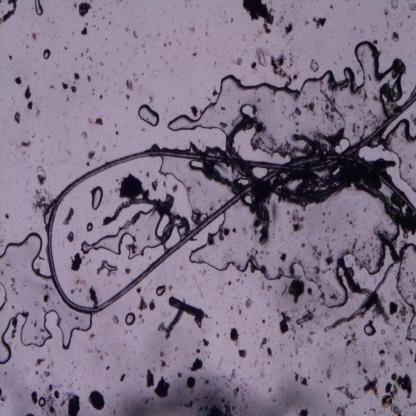Air bubble: (160, 41, 404, 132), (0, 230, 92, 365), (382, 119, 416, 191), (396, 240, 416, 344), (82, 221, 137, 256), (292, 132, 329, 151), (138, 104, 160, 127), (97, 258, 119, 279), (89, 186, 103, 211), (362, 323, 378, 336), (34, 1, 44, 19), (155, 284, 167, 298), (125, 312, 135, 326), (37, 396, 47, 410), (42, 49, 52, 61), (85, 222, 94, 233), (380, 328, 386, 336)
Background material: (169, 295, 208, 328), (335, 374, 379, 400), (242, 0, 274, 35), (317, 90, 346, 126), (374, 228, 400, 263), (118, 175, 150, 201), (32, 191, 52, 218), (295, 304, 317, 327), (86, 388, 106, 412), (0, 1, 20, 25), (358, 105, 380, 126), (200, 394, 221, 416), (288, 280, 306, 305), (154, 374, 170, 402), (381, 382, 397, 408), (123, 210, 143, 230), (398, 374, 413, 400), (65, 392, 81, 415), (186, 358, 205, 374), (307, 242, 322, 262), (398, 302, 410, 327), (77, 2, 92, 21), (279, 311, 291, 334), (62, 206, 74, 227), (71, 252, 82, 274), (370, 359, 386, 374), (247, 245, 263, 260), (194, 208, 207, 226), (144, 367, 154, 390), (36, 166, 47, 186), (228, 328, 240, 346), (10, 277, 20, 297), (389, 297, 399, 317), (343, 331, 357, 345), (291, 209, 305, 223), (309, 58, 321, 74), (89, 289, 99, 308), (216, 353, 226, 372), (138, 294, 148, 312), (349, 234, 358, 254), (350, 121, 362, 136), (30, 389, 40, 406), (312, 17, 326, 29), (310, 265, 322, 279), (222, 400, 232, 416), (342, 100, 356, 111), (279, 281, 288, 298), (393, 350, 403, 365), (47, 398, 55, 416), (291, 335, 303, 347), (232, 385, 241, 401), (357, 360, 368, 373), (363, 253, 373, 267), (125, 78, 135, 92), (24, 84, 32, 101), (13, 111, 22, 126), (401, 401, 416, 410), (11, 318, 17, 340), (86, 149, 97, 161), (186, 376, 196, 389), (158, 360, 167, 374), (391, 30, 400, 44), (368, 407, 382, 416), (285, 22, 294, 36), (385, 336, 392, 354), (183, 400, 194, 411), (390, 403, 400, 415), (324, 254, 334, 266), (361, 91, 369, 106), (393, 324, 401, 339), (335, 406, 347, 416), (307, 101, 317, 113), (390, 0, 400, 12), (0, 388, 7, 405), (73, 278, 86, 287), (290, 306, 297, 322), (144, 392, 152, 406), (325, 367, 333, 381), (52, 380, 63, 390), (66, 233, 76, 244), (21, 140, 33, 149), (14, 74, 23, 86), (60, 80, 69, 92), (151, 177, 158, 192), (191, 105, 198, 120), (32, 105, 40, 118), (35, 356, 45, 366), (218, 120, 228, 130), (238, 347, 247, 358), (124, 266, 133, 277), (157, 323, 166, 334), (9, 137, 16, 151), (297, 407, 309, 415), (250, 61, 258, 73), (245, 297, 252, 310), (94, 117, 104, 126), (222, 10, 228, 25), (276, 384, 285, 394), (112, 315, 121, 325), (266, 347, 274, 358), (288, 323, 296, 334), (298, 240, 306, 251), (149, 298, 156, 310), (280, 251, 287, 263), (383, 7, 390, 19), (208, 235, 215, 247), (27, 100, 34, 112), (407, 2, 416, 11), (201, 338, 210, 347), (80, 130, 88, 140), (42, 370, 52, 378), (382, 366, 390, 376), (232, 58, 242, 66), (80, 27, 88, 37), (265, 284, 273, 294), (52, 389, 60, 399), (260, 337, 267, 348), (223, 226, 230, 237), (253, 358, 260, 369), (292, 223, 303, 230), (276, 16, 284, 25), (295, 360, 304, 368), (36, 326, 45, 334), (307, 286, 313, 298), (378, 349, 386, 358), (390, 372, 398, 381), (305, 336, 314, 344), (294, 372, 300, 384), (301, 378, 309, 387), (232, 404, 238, 416), (294, 108, 302, 117), (143, 169, 150, 179), (147, 95, 154, 105), (260, 277, 265, 291), (408, 347, 414, 358), (4, 212, 10, 223), (187, 183, 193, 194), (60, 396, 66, 407), (230, 369, 236, 380), (228, 304, 236, 312), (70, 86, 78, 94), (89, 332, 97, 340), (330, 292, 338, 300), (254, 95, 262, 103), (212, 88, 219, 97), (172, 183, 179, 192), (241, 32, 247, 42), (140, 42, 146, 52), (304, 18, 310, 28), (98, 354, 104, 364), (410, 278, 416, 288), (32, 32, 38, 42), (189, 26, 196, 34), (258, 370, 265, 378), (114, 282, 122, 289), (44, 296, 51, 304), (22, 309, 29, 317), (0, 236, 5, 247), (232, 226, 238, 235), (133, 73, 139, 82), (105, 364, 110, 374), (276, 305, 281, 315), (132, 244, 137, 254), (204, 378, 210, 386), (280, 344, 286, 352), (158, 350, 164, 358), (87, 117, 93, 125), (125, 92, 131, 100), (114, 129, 120, 137), (292, 73, 298, 81), (74, 72, 80, 80), (204, 96, 212, 102), (195, 347, 201, 355), (133, 31, 139, 39), (98, 94, 104, 102), (348, 219, 354, 227), (34, 368, 40, 376), (320, 411, 329, 416), (72, 1, 77, 10), (86, 75, 91, 84), (362, 241, 366, 252), (83, 47, 89, 54), (136, 288, 143, 294), (216, 388, 222, 395), (32, 334, 38, 341), (63, 96, 70, 102), (294, 348, 300, 355), (84, 161, 91, 167), (197, 406, 203, 413), (94, 348, 101, 354), (266, 301, 272, 308), (121, 374, 125, 384), (8, 53, 13, 61), (262, 264, 267, 272), (40, 374, 44, 384), (220, 375, 228, 380), (48, 384, 53, 392), (125, 26, 130, 34), (240, 276, 244, 286), (32, 320, 37, 328), (224, 382, 230, 388), (345, 214, 351, 220), (84, 22, 90, 28), (192, 52, 198, 58), (140, 70, 146, 76), (147, 234, 151, 243), (372, 40, 378, 46), (309, 331, 315, 337), (66, 383, 72, 389), (92, 88, 96, 97), (266, 360, 272, 366), (202, 270, 208, 276), (25, 412, 34, 416), (267, 386, 272, 393), (169, 284, 174, 291), (177, 372, 182, 379), (43, 284, 48, 291), (329, 5, 334, 12), (204, 31, 209, 38), (295, 120, 300, 127), (64, 44, 68, 52), (262, 318, 266, 326), (89, 55, 93, 63), (230, 17, 234, 25), (162, 180, 166, 188), (10, 304, 15, 310), (228, 280, 233, 286), (69, 289, 75, 294), (87, 349, 93, 354), (244, 382, 249, 388), (344, 402, 349, 408), (413, 353, 416, 363), (315, 342, 321, 347), (48, 286, 53, 292), (407, 163, 412, 169), (286, 210, 290, 217), (214, 319, 218, 326), (112, 409, 116, 416), (324, 227, 328, 234), (219, 107, 226, 111), (102, 145, 106, 152), (5, 264, 12, 268), (139, 311, 142, 320), (363, 206, 367, 212), (300, 323, 304, 329), (140, 128, 146, 132), (242, 390, 248, 394), (244, 404, 250, 408), (244, 314, 248, 320), (80, 52, 84, 58), (163, 41, 167, 47), (1, 270, 4, 278), (242, 394, 245, 402), (272, 398, 276, 404), (114, 122, 118, 128), (238, 310, 242, 316), (77, 288, 83, 292), (216, 332, 220, 338), (134, 336, 138, 342), (149, 255, 152, 262), (74, 316, 78, 321), (67, 152, 71, 157), (295, 127, 299, 132), (321, 220, 326, 224), (100, 61, 104, 66), (227, 378, 232, 382), (349, 401, 354, 405), (355, 350, 359, 355), (82, 255, 86, 260), (322, 212, 326, 217), (238, 364, 242, 369), (92, 24, 96, 29), (282, 362, 285, 368), (327, 392, 330, 398), (33, 132, 36, 138), (200, 374, 203, 380), (96, 142, 100, 146), (319, 380, 323, 384), (4, 371, 8, 375), (281, 110, 285, 114), (306, 375, 310, 379), (48, 364, 52, 368), (50, 86, 54, 90), (88, 260, 92, 264), (141, 319, 145, 323), (168, 42, 172, 46), (399, 342, 403, 346), (237, 278, 240, 283), (72, 31, 74, 38), (104, 37, 107, 41), (109, 22, 112, 26), (180, 266, 183, 270), (99, 7, 102, 11), (373, 342, 375, 348), (290, 354, 293, 358), (208, 353, 210, 358), (407, 363, 409, 368), (34, 71, 36, 76), (126, 105, 128, 110), (223, 333, 226, 336), (196, 398, 199, 401), (93, 14, 95, 18), (371, 352, 373, 356), (103, 16, 105, 20), (97, 26, 99, 30), (316, 380, 318, 383), (328, 401, 331, 403), (321, 370, 324, 372), (268, 316, 270, 318)
Cellulose filter fibre: (287, 173, 411, 230), (323, 263, 394, 334), (101, 197, 191, 241), (338, 260, 392, 324), (255, 46, 294, 85), (225, 117, 256, 158), (251, 190, 272, 247), (202, 164, 244, 192), (164, 308, 183, 341)
Hair: (43, 86, 416, 316)
